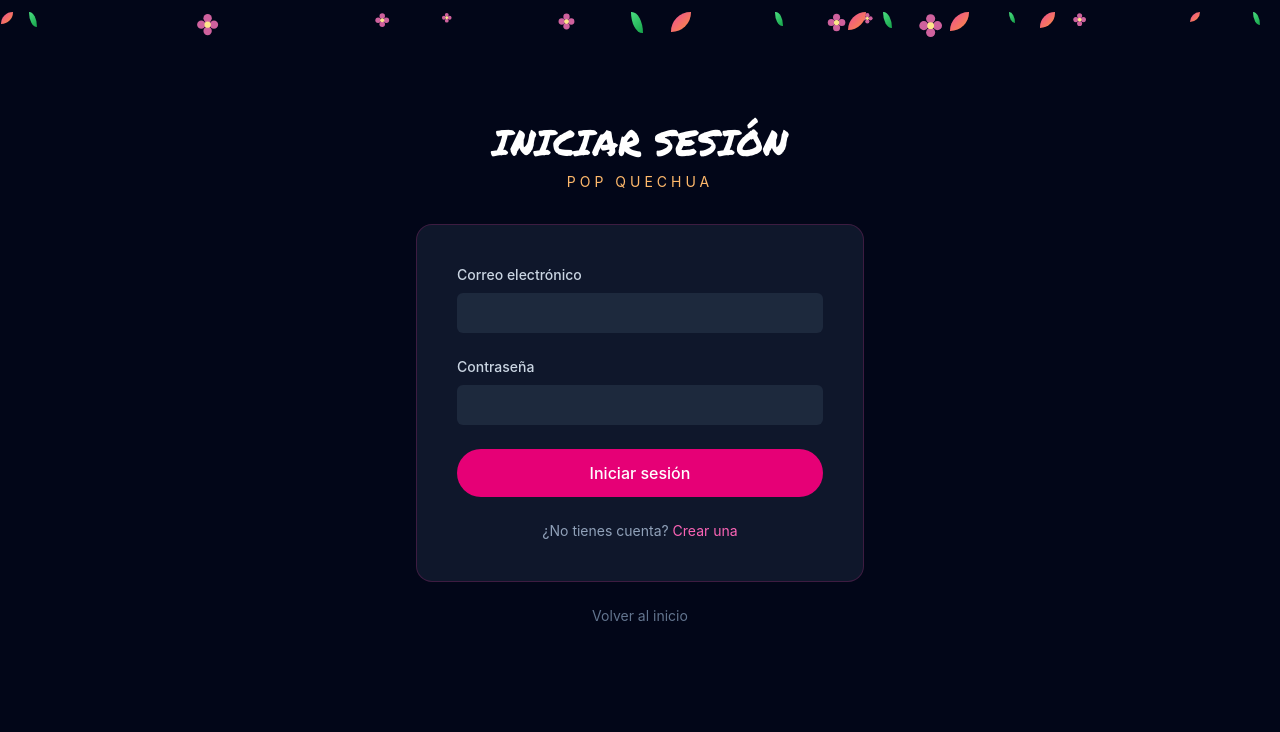
UserLogin page › shows validation errors when submitting an empty login form
Click the button "Iniciar sesión". click: (640, 472)
box: [457,448,823,496]
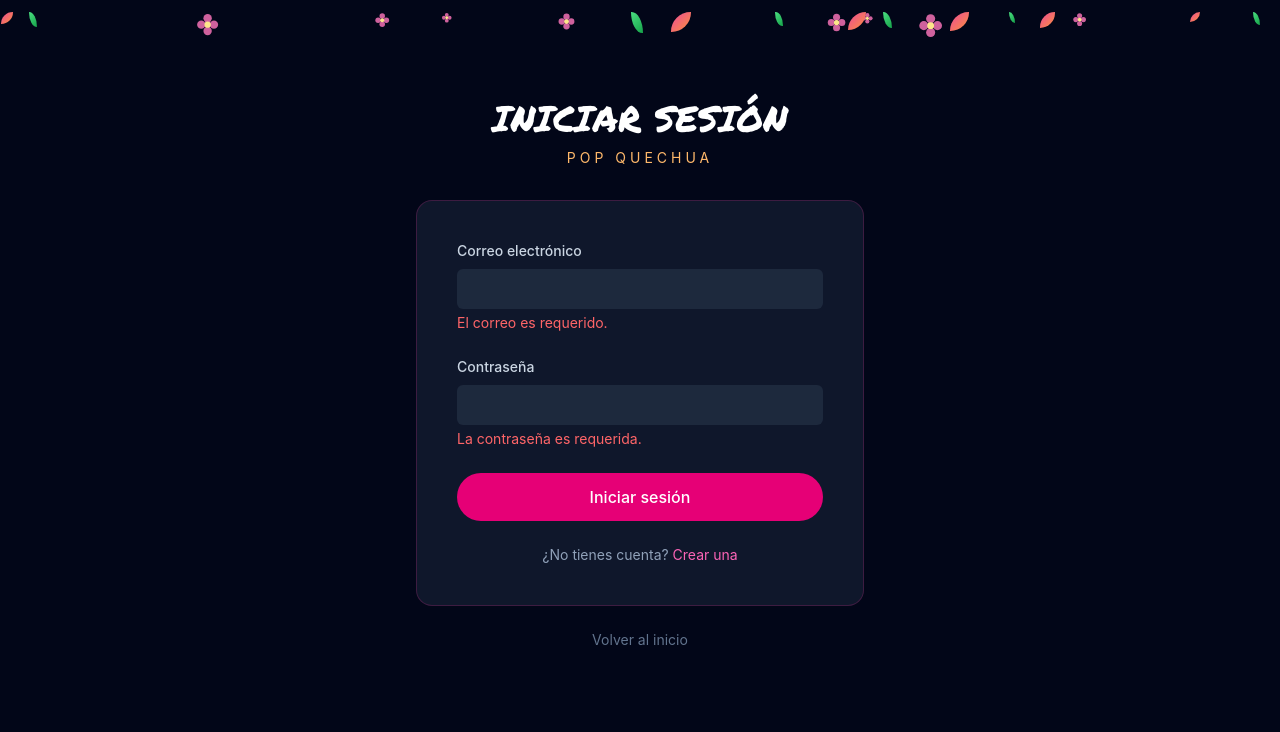
Expected: the text "El correo es requerido." is shown, [457,314,608,330]
Expected: the text "La contraseña es requerida." is shown, [457,430,642,446]
